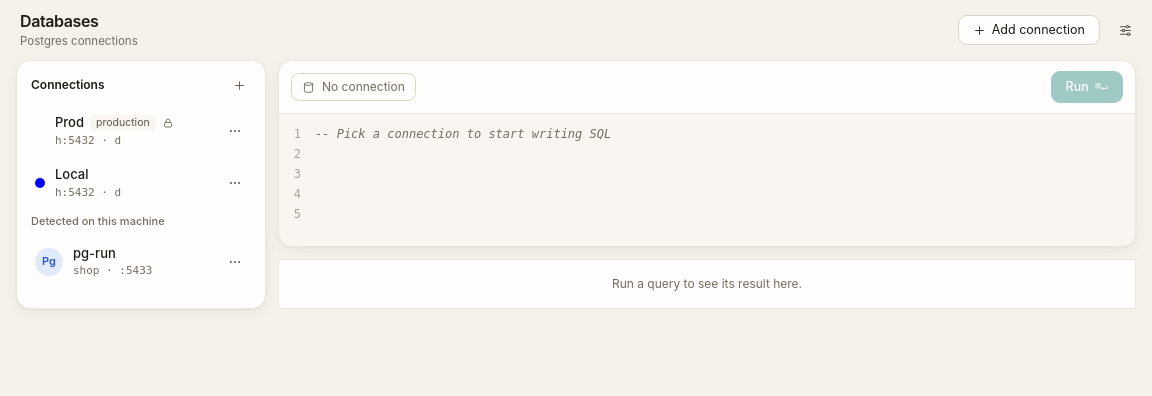
Scenario: DatabasesPage › selecting a connection loads its history and draft
What coordinates should you click on to do the following:
click the element with test id "saved-row" showing "Local h:5432 · d"
I would click on:
 (72, 174)
Its box is left=25, top=157, right=257, bottom=209.
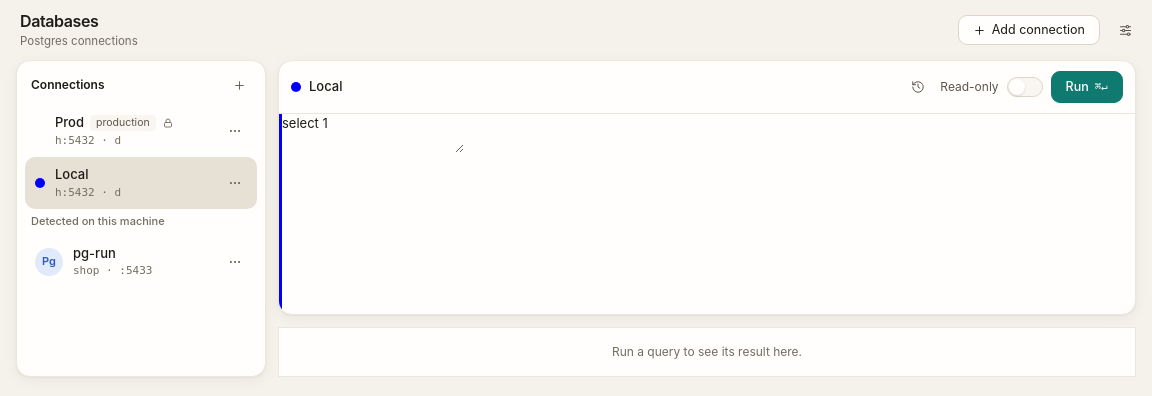
expect the text "Local" is shown: met, box left=55, top=165, right=88, bottom=184
expect the text box with test id "editor" holds "select 1": met, box left=282, top=114, right=464, bottom=153
